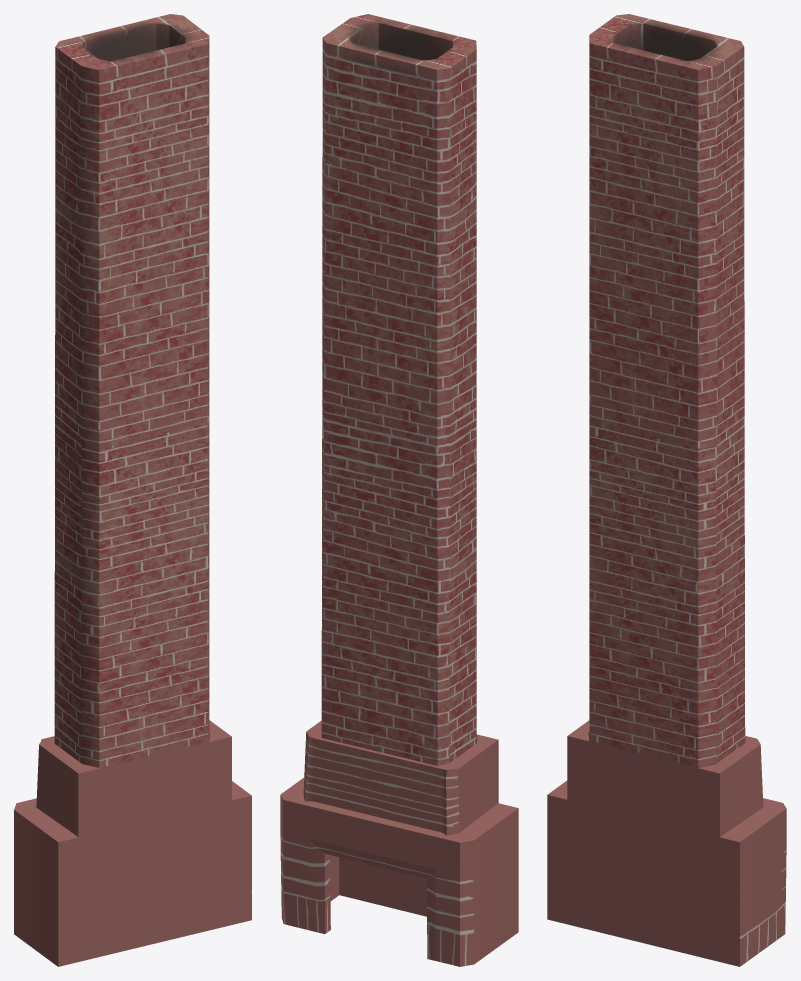
Rendered from Fireplace_fix_maybe.fbx.
3 renders of one model, left to right at view 1: azimuth 30°, elevation 25°; view 2: azimuth 150°, elevation 25°; view 3: azimuth 330°, elevation 25°, orthographic.
Parts seen in each view (by area): view 1: Fireplace_top, Fireplace_down; view 2: Fireplace_top, Fireplace_down; view 3: Fireplace_top, Fireplace_down.
Part boxes in pixels (x1,y1,x2,y2): Fireplace_top: [54, 14, 209, 767]; Fireplace_down: [14, 720, 251, 966]; Fireplace_top: [321, 14, 476, 765]; Fireplace_down: [280, 720, 518, 966]; Fireplace_top: [589, 14, 745, 767]; Fireplace_down: [547, 720, 786, 966].
Bounding box in the file's own units: 166 × 725 × 75.84.
